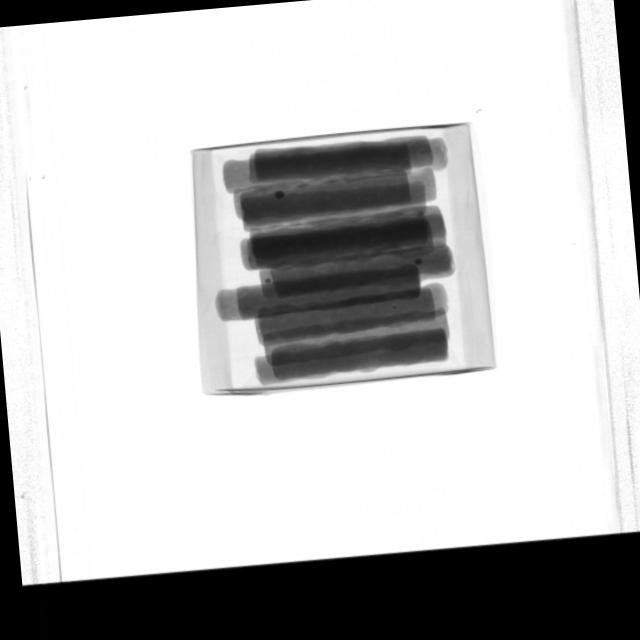ym: (274, 190, 285, 199), (415, 258, 422, 265), (265, 278, 271, 284), (392, 305, 397, 310)
